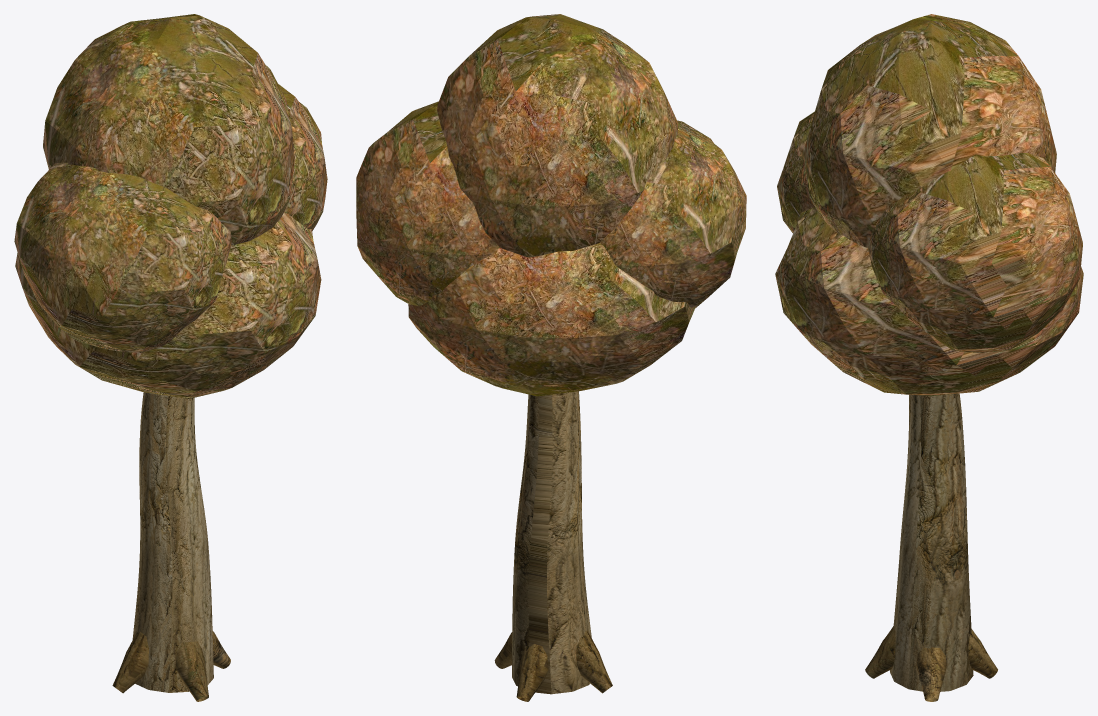
Rendered from sal_mature.glb.
The picture shows the model from 3 angles, left to right: view 1: azimuth 30°, elevation 25°; view 2: azimuth 150°, elevation 25°; view 3: azimuth 270°, elevation 25°; orthographic projection.
Parts seen in each view (by area): view 1: Sal_Apex_Crown, Sal_Mid_Crown_W, Sal_Lower_Crown, Sal_Trunk, Sal_Mid_Crown_E, Sal_Buttress_270, Sal_Buttress_180; view 2: Sal_Apex_Crown, Sal_Lower_Crown, Sal_Trunk, Sal_Mid_Crown_E, Sal_Mid_Crown_W, Sal_Buttress_90, Sal_Buttress_180; view 3: Sal_Apex_Crown, Sal_Mid_Crown_E, Sal_Lower_Crown, Sal_Trunk, Sal_Mid_Crown_W, Sal_Buttress_0, Sal_Buttress_270, Sal_Buttress_90.
Boxes of the visible parts, x1,y1,x2,y2 form: Sal_Apex_Crown: (43,14,294,244); Sal_Mid_Crown_W: (14,162,231,352); Sal_Lower_Crown: (15,212,321,398); Sal_Trunk: (132,392,213,692); Sal_Mid_Crown_E: (278,84,327,230); Sal_Buttress_270: (176,641,208,701); Sal_Buttress_180: (112,631,148,693); Sal_Apex_Crown: (437,14,677,257); Sal_Lower_Crown: (408,243,695,396); Sal_Trunk: (512,391,591,694); Sal_Mid_Crown_E: (356,101,499,306); Sal_Mid_Crown_W: (600,120,746,307); Sal_Buttress_90: (516,644,548,701); Sal_Buttress_180: (576,630,612,693); Sal_Apex_Crown: (803,14,1056,247); Sal_Mid_Crown_E: (868,153,1082,352); Sal_Lower_Crown: (775,207,1083,395); Sal_Trunk: (890,393,973,691); Sal_Mid_Crown_W: (777,111,814,232); Sal_Buttress_0: (916,647,946,701); Sal_Buttress_270: (865,626,895,678); Sal_Buttress_90: (968,628,997,678).
Size of the model in its own units: 8.42 by 16.43 by 6.99.
2 materials, 2 textured.
